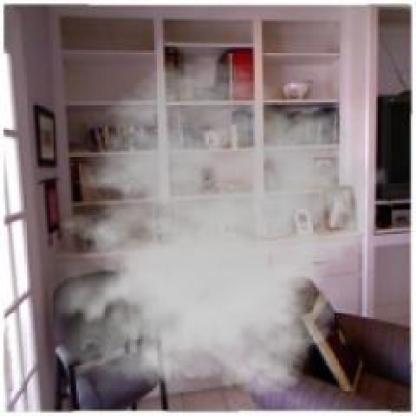Smoke: (37, 61, 388, 407)
